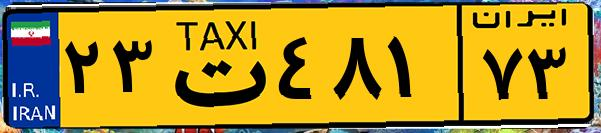1: (385, 28, 445, 110)
2: (57, 26, 110, 100)
3: (525, 38, 570, 115), (110, 28, 158, 98)
4: (270, 28, 330, 110)
7: (475, 38, 525, 113)
8: (330, 28, 385, 110)
ت: (158, 12, 270, 120)
